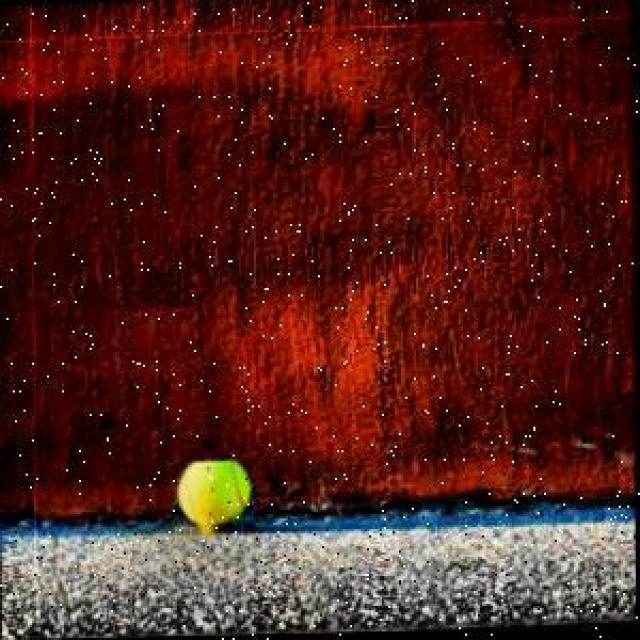tennis-ball: (172, 459, 258, 536)
